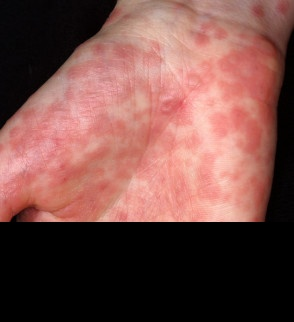SJS-TEN: (0, 0, 290, 220)
